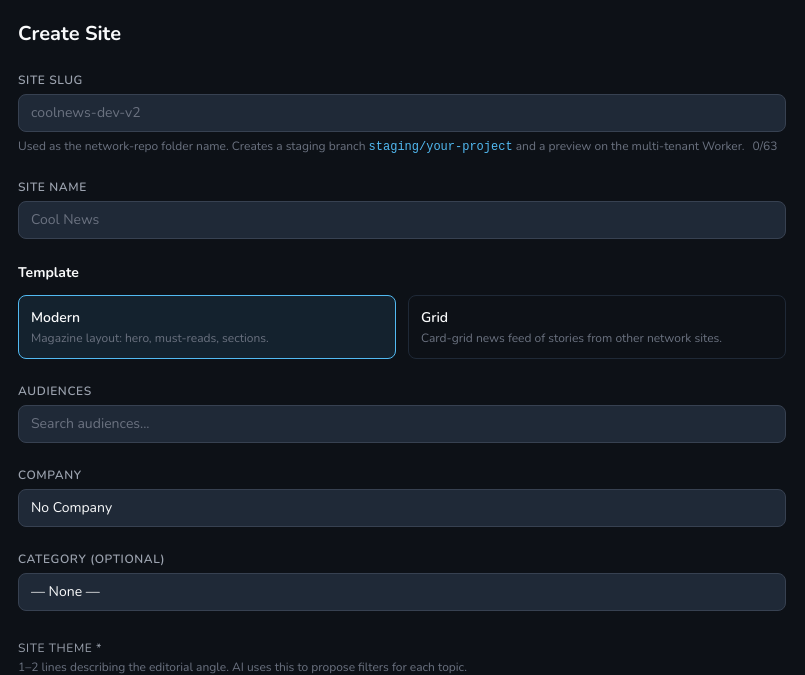
Test case: WizardPage — G2 template-dependent steps › Modern (default) shows the 7 Modern steps and mounts Content Brief next
Type "gridsite" into the field with placeholder "coolnews-dev-v2" at (402, 113), box [18,94,786,132]
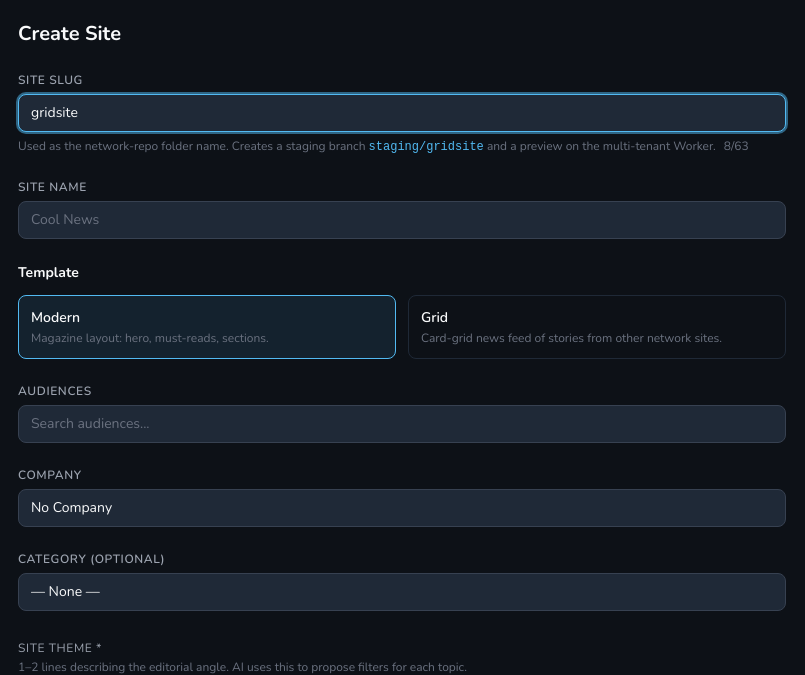
Type "Grid Site" into the field with placeholder "Cool News" at (402, 220), box [18,201,786,239]
(page scrolled)
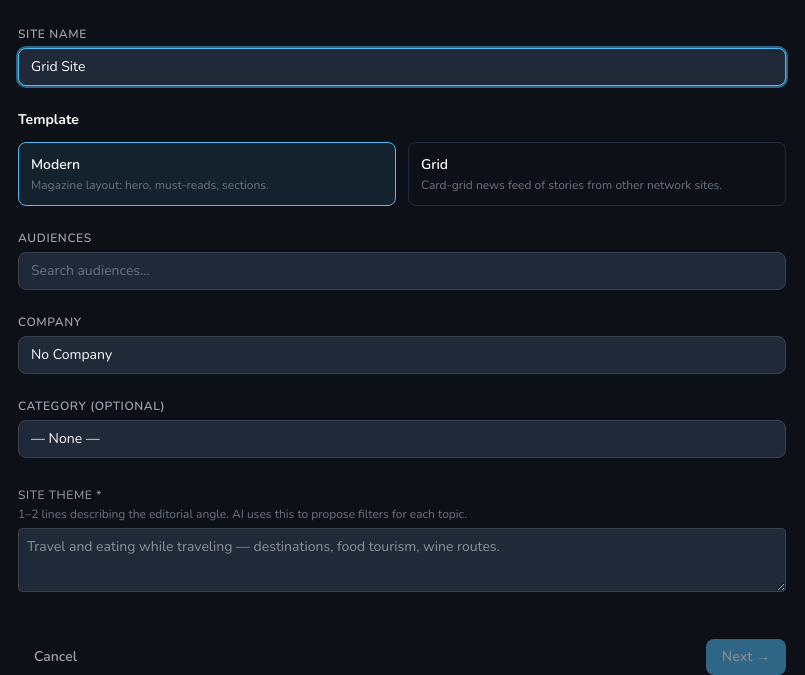
Type "Health news" into the text box with placeholder "Travel and eating" at (402, 560), box [18,528,786,592]
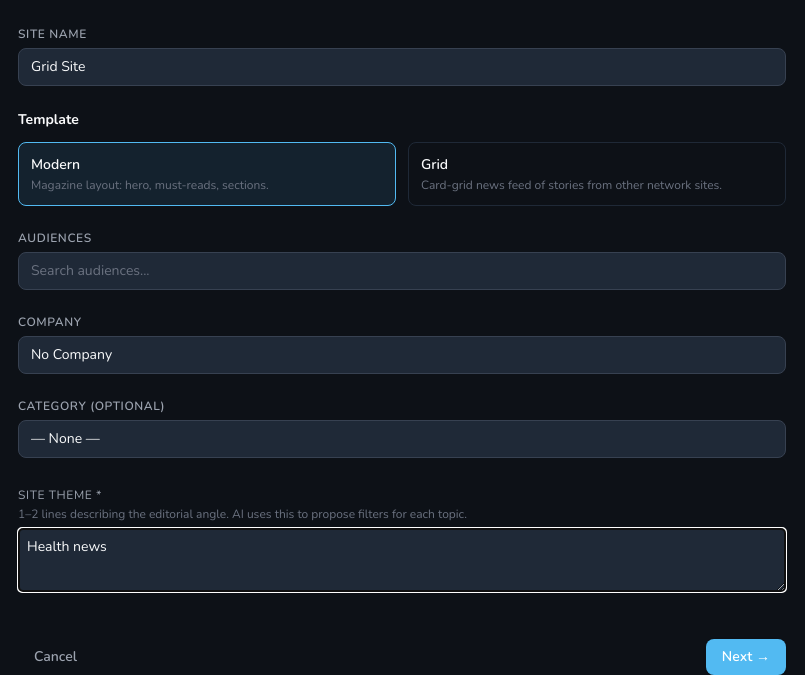
Click the button "Next →" at (746, 657), box [706,639,786,674]
(page scrolled)
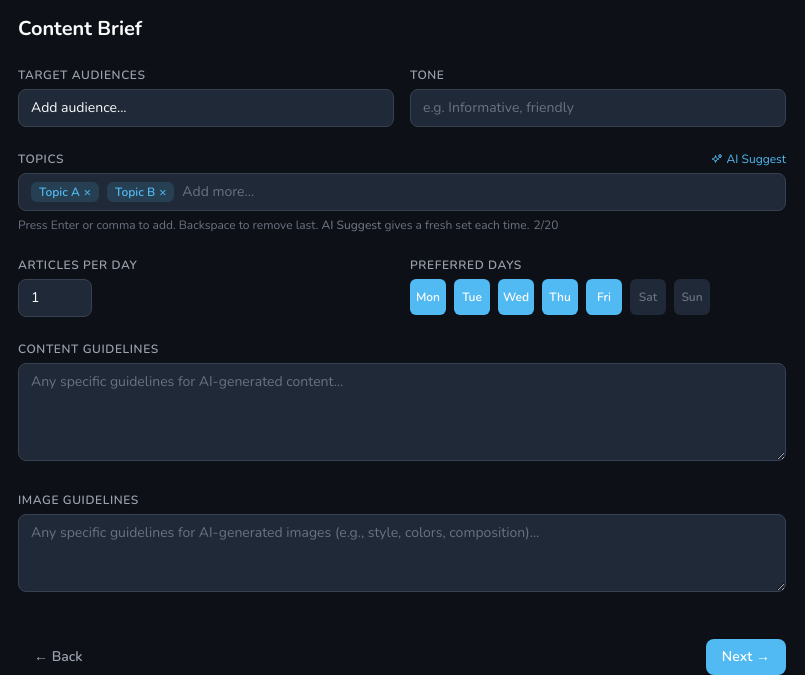
Check: the heading "Content Brief" is shown, box [18,15,142,42]
